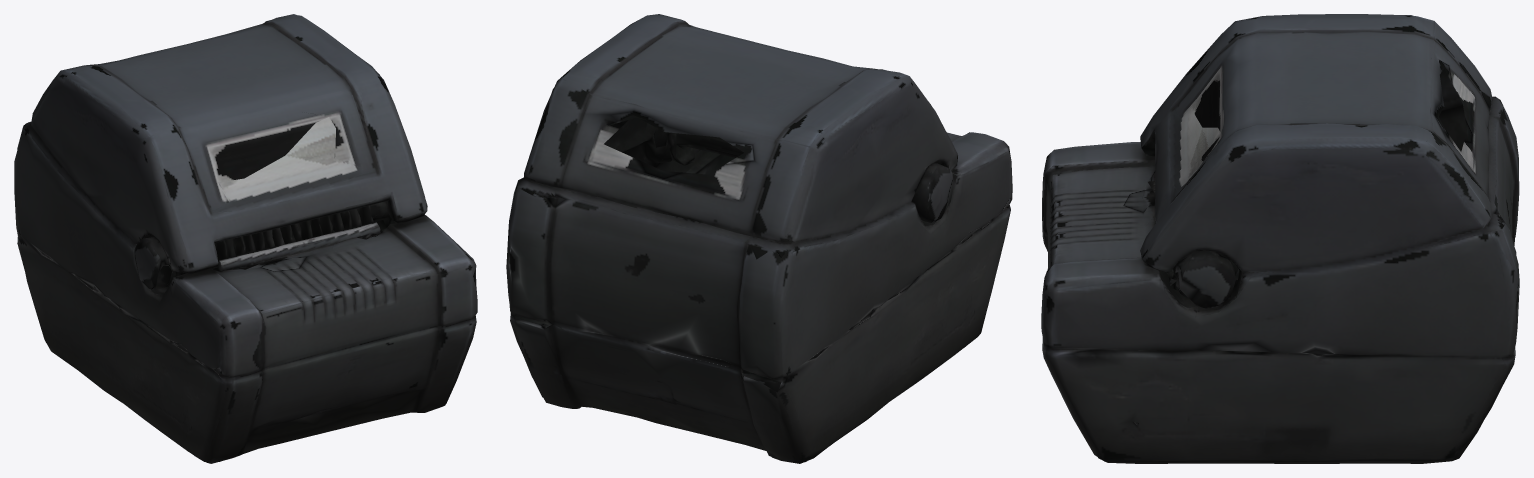
Rendered from serverroom_CableLabelPrinter.glb.
3 views of the same model, side by side, from view 1: azimuth 30°, elevation 25°; view 2: azimuth 150°, elevation 25°; view 3: azimuth 270°, elevation 25° (orthographic). The views are drawn at different scales.
Visible parts, largest first — view 1: world; view 2: world; view 3: world.
Boxes of the visible parts, x1,y1,x2,y2 form: world: (14, 14, 477, 463); world: (506, 14, 1012, 463); world: (1041, 14, 1519, 463).
Bounding box in the file's own units: 0.7187 × 0.7523 × 0.9992.
1 material, 1 textured.
